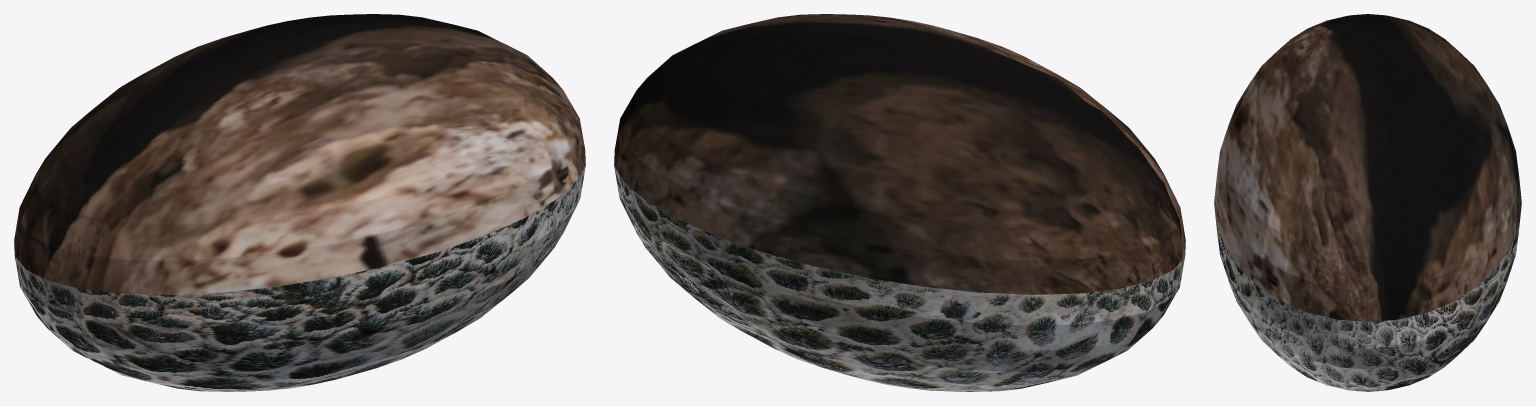
Rendered from Cell1.fbx.
The picture shows the model from 3 angles, left to right: view 1: azimuth 30°, elevation 25°; view 2: azimuth 150°, elevation 25°; view 3: azimuth 270°, elevation 25°; orthographic projection. The views are drawn at different scales.
Parts seen in each view (by area): view 1: Sphere; view 2: Sphere; view 3: Sphere.
Boxes of the visible parts, bbox=[...] form: Sphere: bbox=[14, 14, 585, 391]; Sphere: bbox=[614, 14, 1185, 391]; Sphere: bbox=[1214, 14, 1521, 391].
Bounding box in the file's own units: 366 × 212 × 200.
